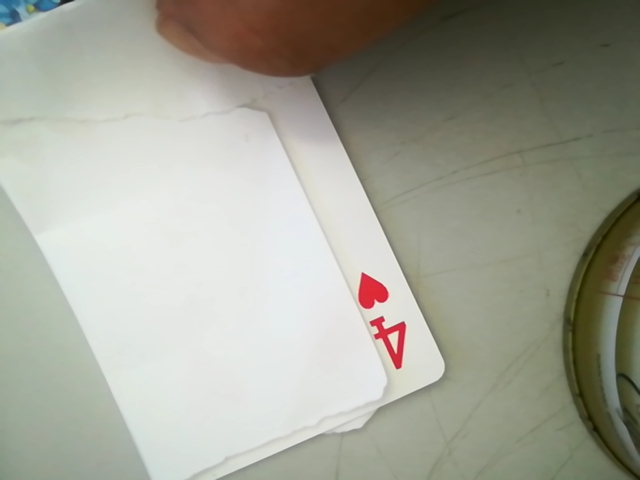hx 4: (342, 264, 422, 379)
